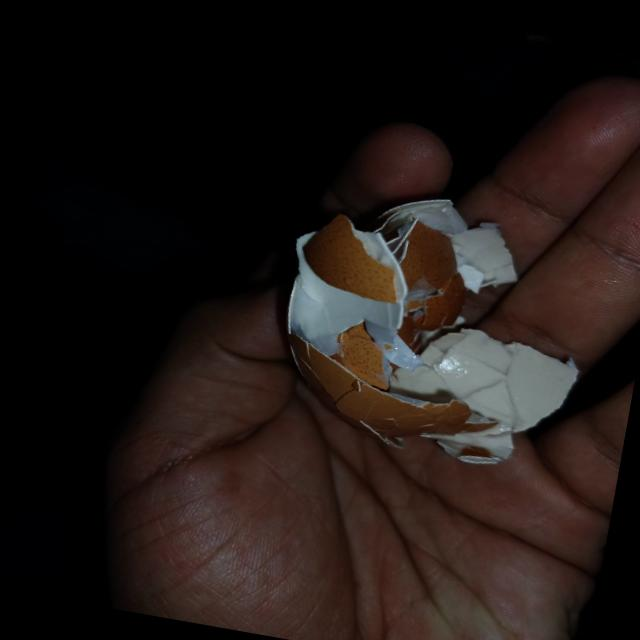organic: (259, 174, 600, 482)
